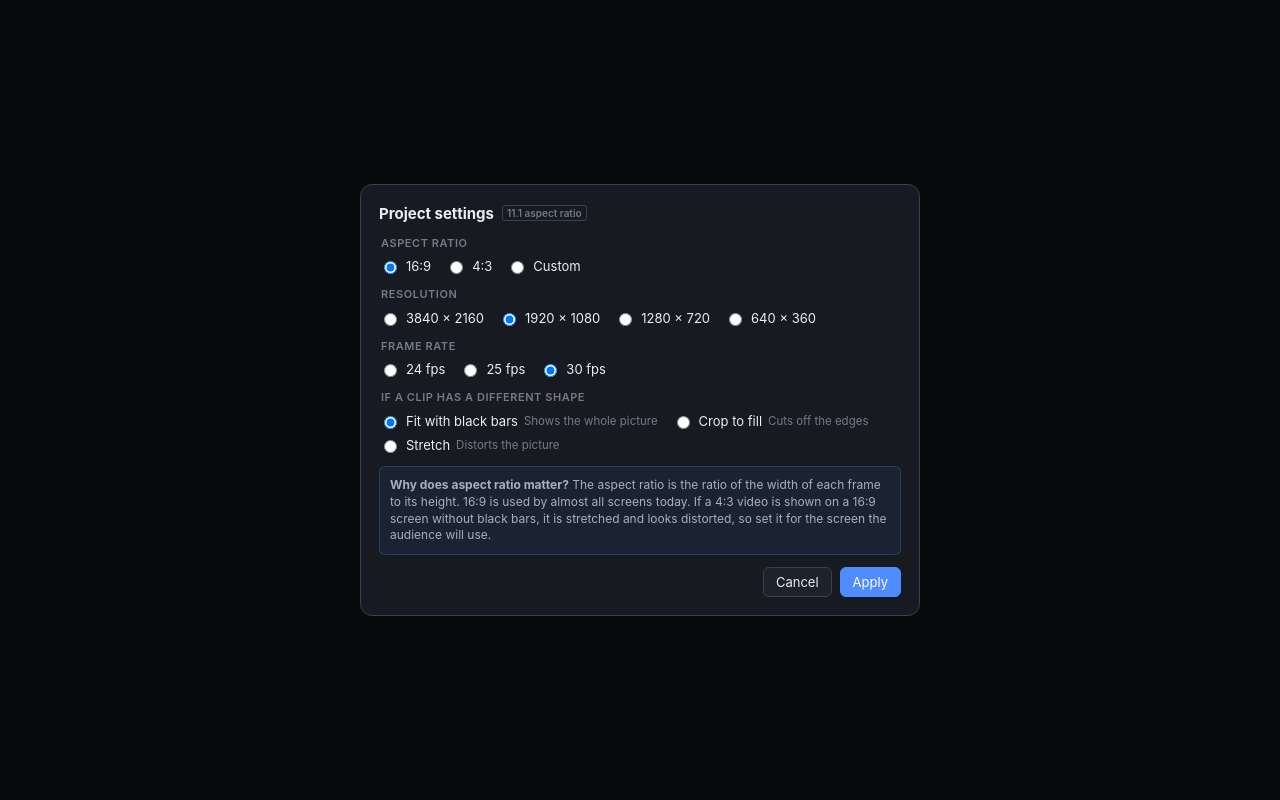
it: V1 project settings dialog (screen 11) › a custom size that cannot be used is explained, and the dialog stays open
Step 1. Click the radio button labelled "Custom" → (518, 268), box [511,261,524,274]
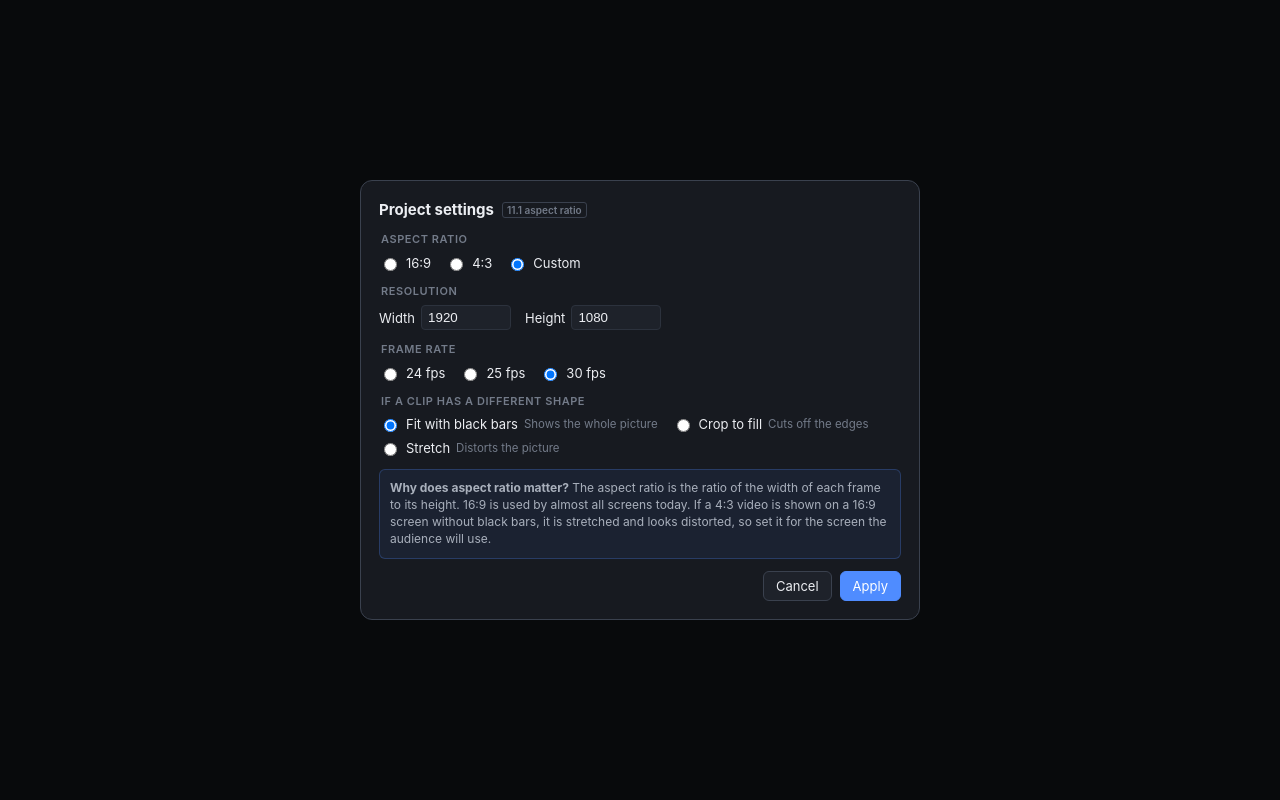
Step 2. Replace the text in the number field labelled "Width" with "1081" → (466, 318), box [421,305,511,330]
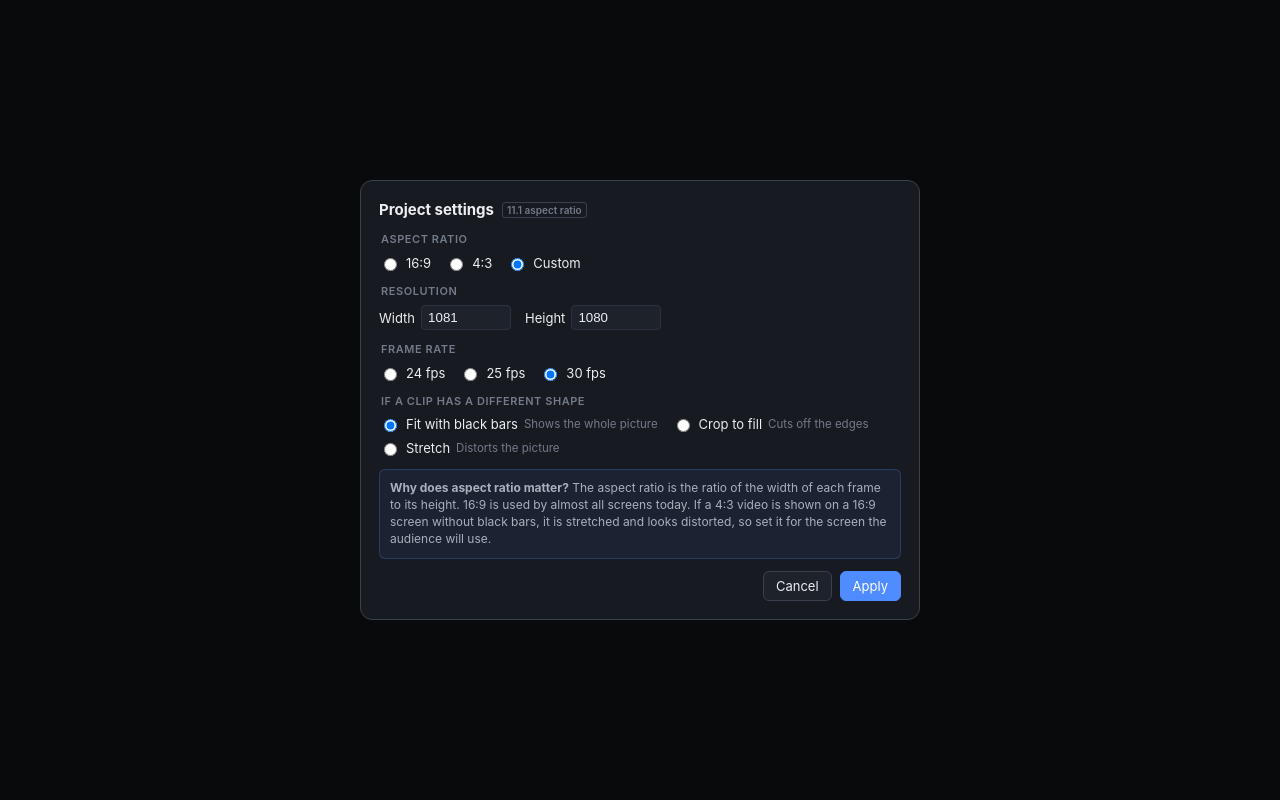
Step 3. Click the button "Apply" → (870, 586), box [840,571,901,601]
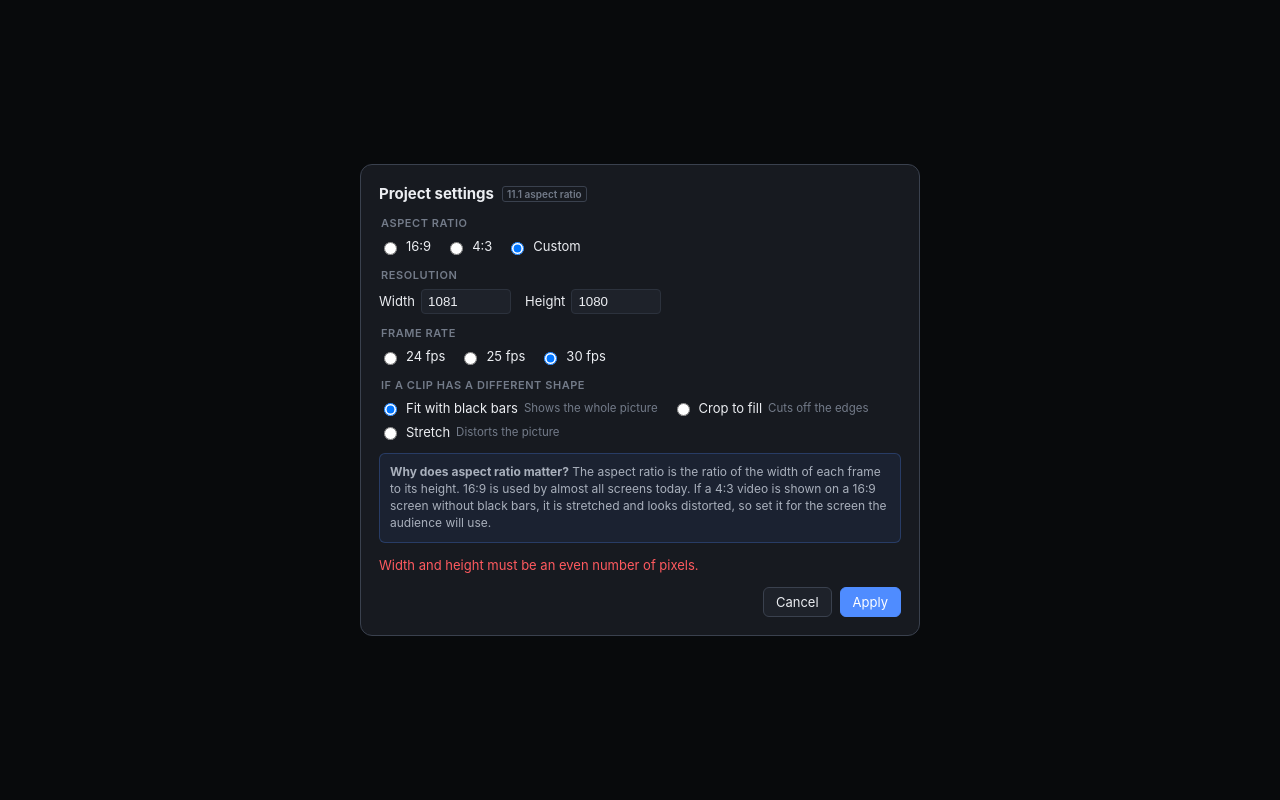
Result: the message shows "even number" at [379,557,699,573]
